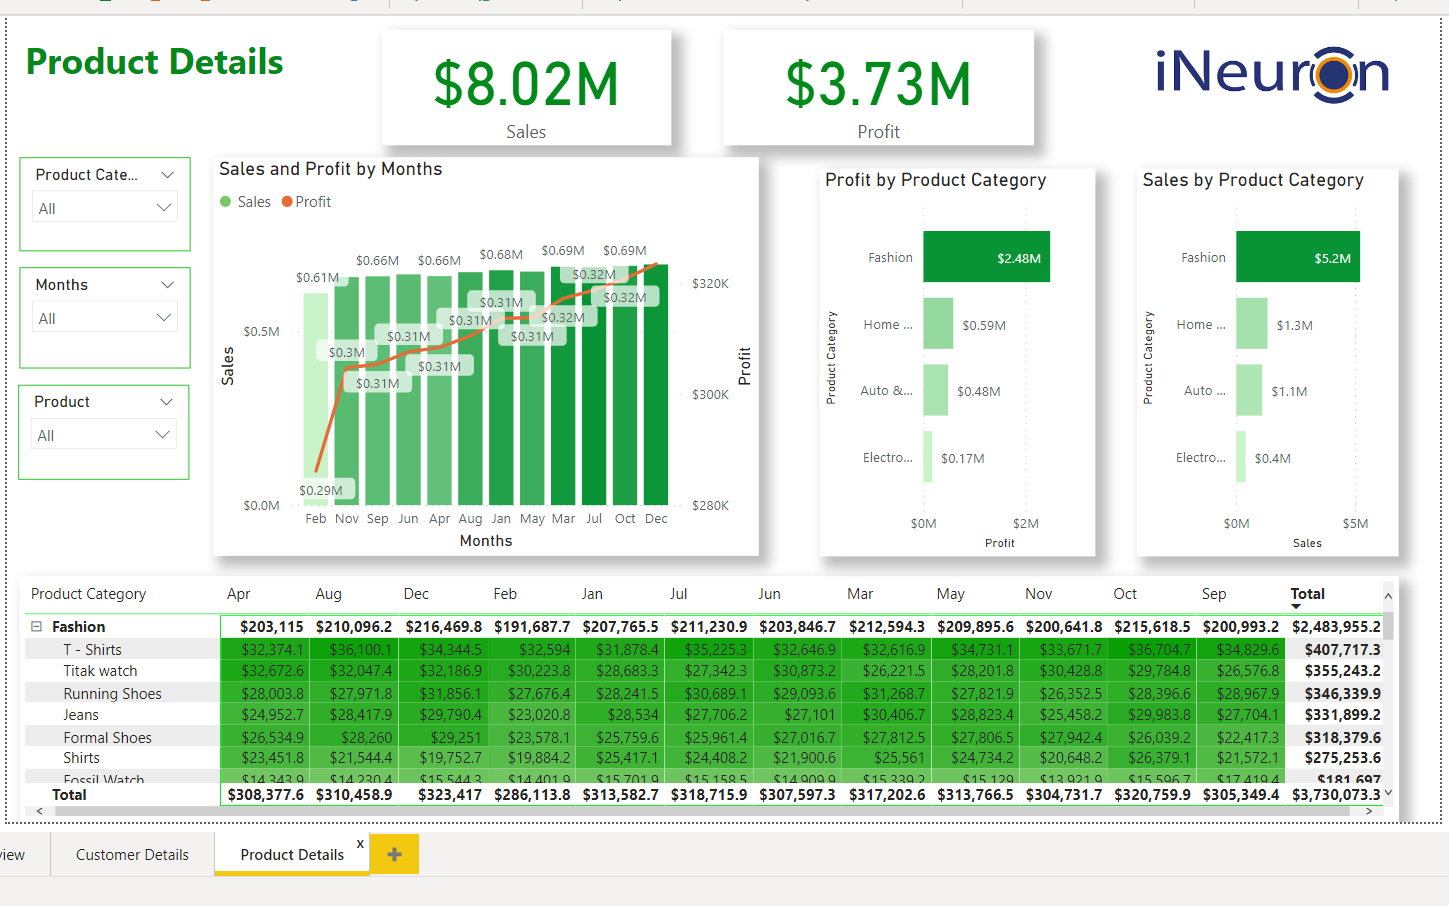

This screenshot's page, from the dashboard's own definition file:
{"tool":"powerbi","page":{"name":"Product Details","canvas":[1312,720],"ordinal":2},"visuals":[{"type":"card","fields":{"Values":["Sum(fact_productsx. Sales )"]},"box":[335.2,11.9,214.7,102.6],"z":0},{"type":"card","fields":{"Values":["Sum(fact_productsx.Profit)"]},"box":[588,9.5,211.1,103.8],"z":1000},{"type":"barChart","fields":{"Category":["fact_productsx.Product Category"],"Y":["Sum(fact_productsx. Sales )"]},"box":[1008.9,136.1,233.9,315.3],"z":2000},{"type":"pivotTable","fields":{"Rows":["fact_productsx.Product Category","fact_productsx.Product"],"Values":["Sum(fact_productsx.Profit)"],"Columns":["fact_products.Order Date.Variation.Date Hierarchy.Month"]},"box":[0,472.2,1311.6,246.7],"z":3000},{"type":"barChart","fields":{"Category":["fact_productsx.Product Category"],"Y":["Sum(fact_productsx.Profit)"]},"box":[709.7,136,263.6,316.1],"z":4000},{"type":"lineStackedColumnComboChart","fields":{"Category":["fact_productsx.Months"],"Y2":["Sum(fact_productsx.Profit)"],"Y":["Sum(fact_products. Sales )"]},"box":[184.2,136.2,496.7,314.8],"z":5000},{"type":"textbox","box":[10.7,11.9,283.9,77.5],"z":6000},{"type":"slicer","fields":{"Values":["fact_productsx.Product Category"]},"box":[10.7,161,152.7,83.5],"z":7000},{"type":"slicer","fields":{"Values":["fact_productsx.Months"]},"box":[10.7,260,152.7,90.6],"z":8000},{"type":"slicer","fields":{"Values":["fact_productsx.Product"]},"box":[10.7,367.4,152.7,84.7],"z":9000},{"type":"image","box":[1125.9,11.9,168.2,52.5],"z":10000},{"type":"card","fields":{"Values":["Sum(fact_products.Quantity)"]},"box":[842.1,9.5,232.6,105],"z":11000},{"type":"slicer","fields":{"Values":["dim_customer.Country"]},"box":[16.7,78.7,146.7,72.8],"z":11001}]}

Visuals, with their boxes on the page's 1312x720 design canvas (x1, y1, x2, y2). These are canvas units, not pixel positions in the 1449x906 screenshot, which may show the page scaled, cropped or inside an application window:
card - Sum(fact_productsx. Sales ): box=[335, 12, 550, 114]
card - Sum(fact_productsx.Profit): box=[588, 10, 799, 113]
barChart - fact_productsx.Product Category x Sum(fact_productsx. Sales ): box=[1009, 136, 1243, 451]
pivotTable - fact_productsx.Product Category x fact_productsx.Product: box=[0, 472, 1312, 719]
barChart - fact_productsx.Product Category x Sum(fact_productsx.Profit): box=[710, 136, 973, 452]
lineStackedColumnComboChart - fact_productsx.Months x Sum(fact_productsx.Profit): box=[184, 136, 681, 451]
textbox: box=[11, 12, 295, 89]
slicer - fact_productsx.Product Category: box=[11, 161, 163, 244]
slicer - fact_productsx.Months: box=[11, 260, 163, 351]
slicer - fact_productsx.Product: box=[11, 367, 163, 452]
image: box=[1126, 12, 1294, 64]
card - Sum(fact_products.Quantity): box=[842, 10, 1075, 114]
slicer - dim_customer.Country: box=[17, 79, 163, 152]
